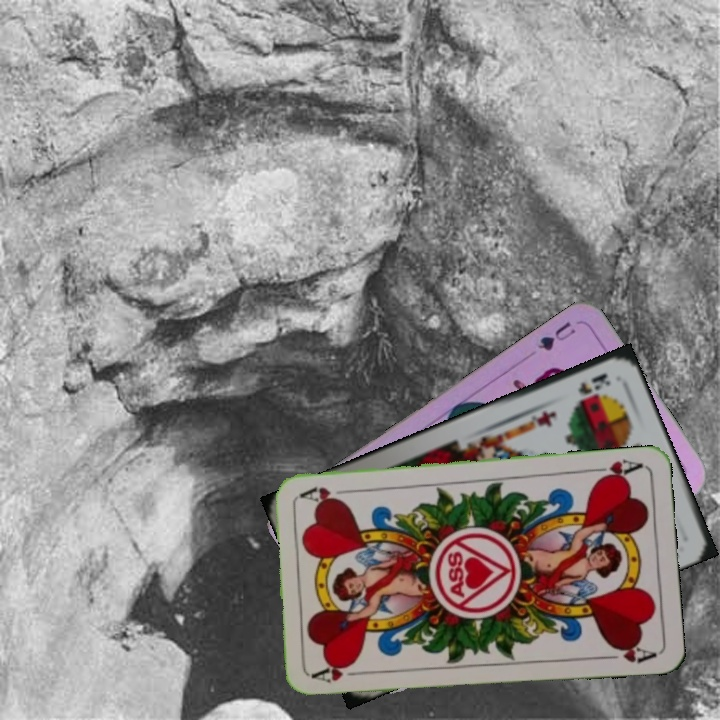GU: (533, 317, 578, 354)
HA: (585, 455, 645, 484), (310, 661, 369, 686)
SK: (574, 369, 613, 397)
